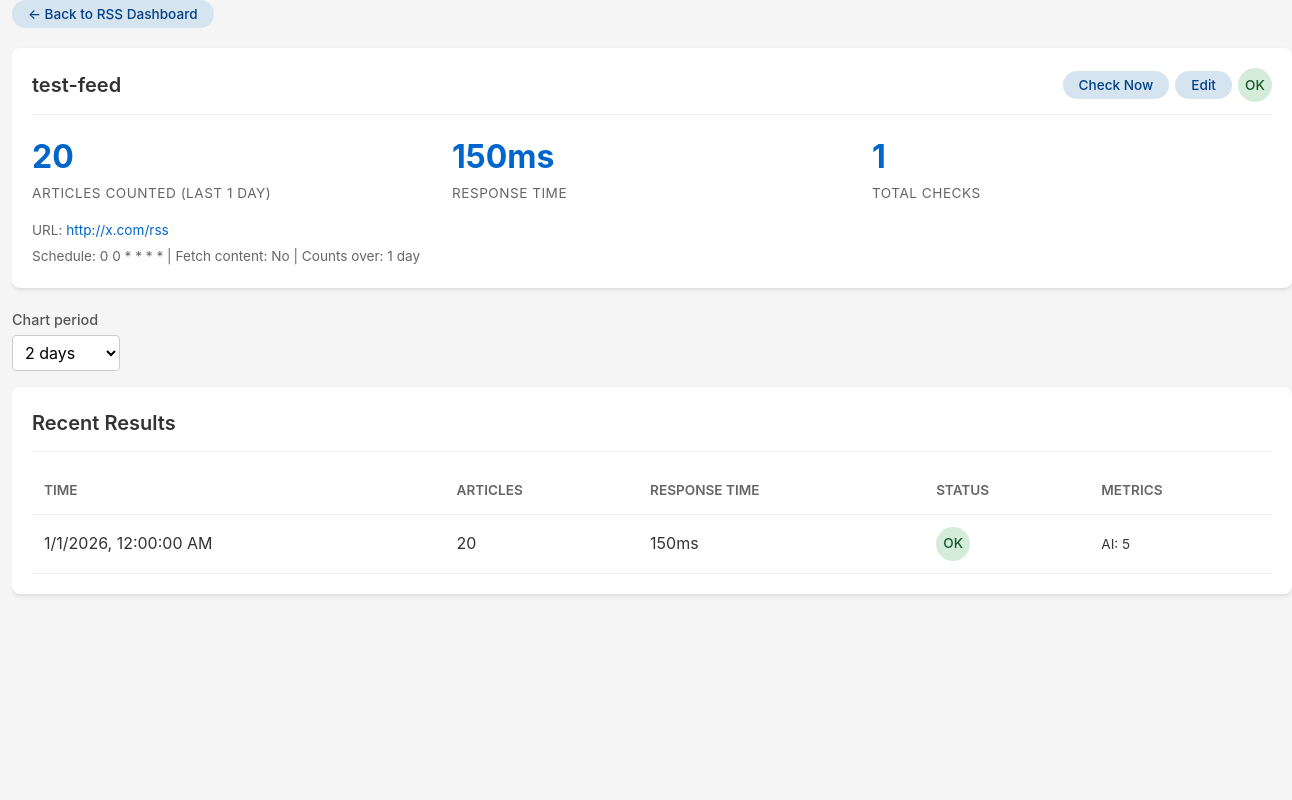
Test: RssFeedDetail › chart period › a period that cannot be saved is said, and the feed keeps its own
The image size is (1292, 800).
Select "365 days" in the dropdown labelled "Chart period" at (66, 353), box [12,335,120,371]
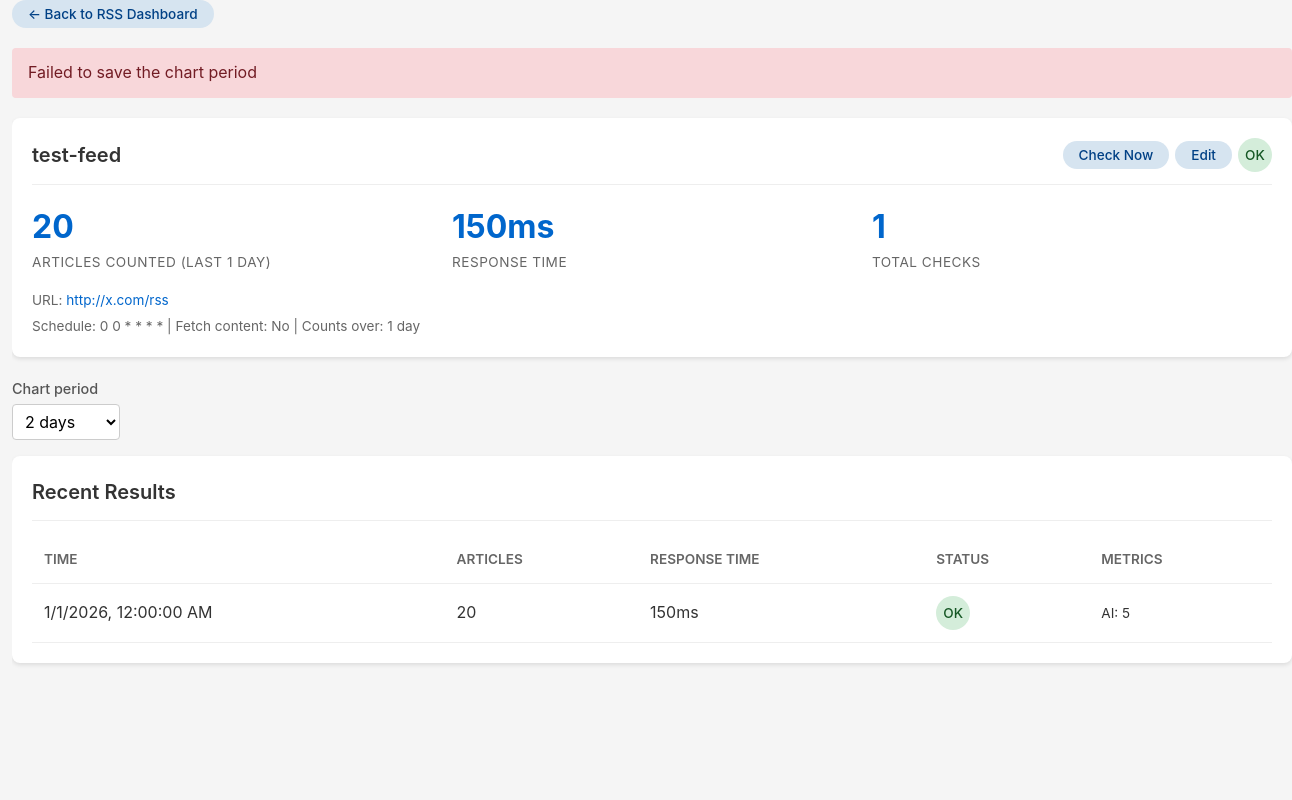
Check: the text "Failed to save the chart period" is shown, box [12,48,1291,98]
